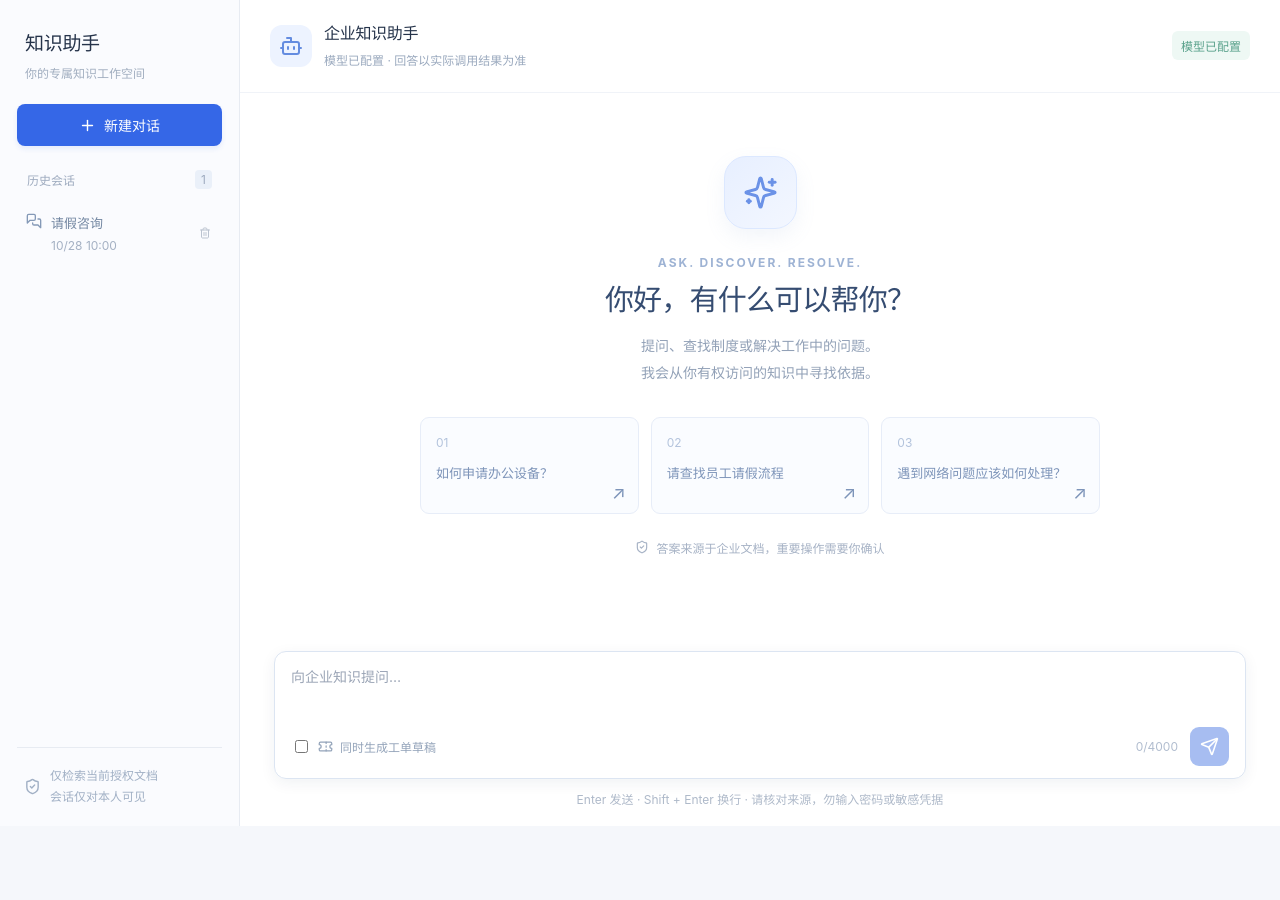
it: shows only cited sources with their original numbers: 当前资料不足以回答。
Click the button "请假咨询 10/28 10:00" at (104, 233), box [17, 201, 191, 265]
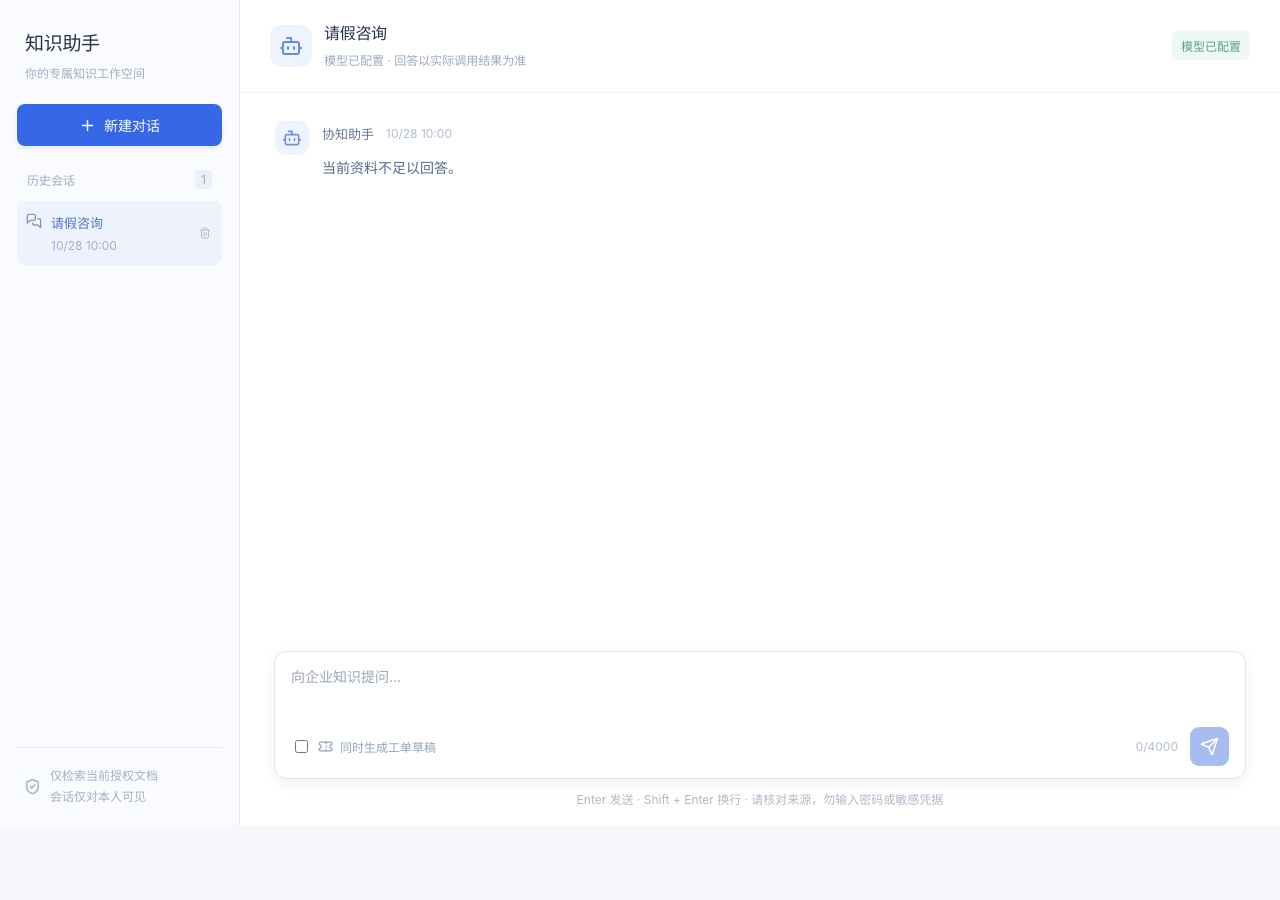
Expected: the text "当前资料不足以回答。" is shown, [322, 159, 462, 176]
